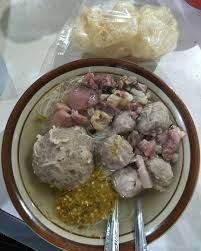bakso: (40, 78, 180, 197)
